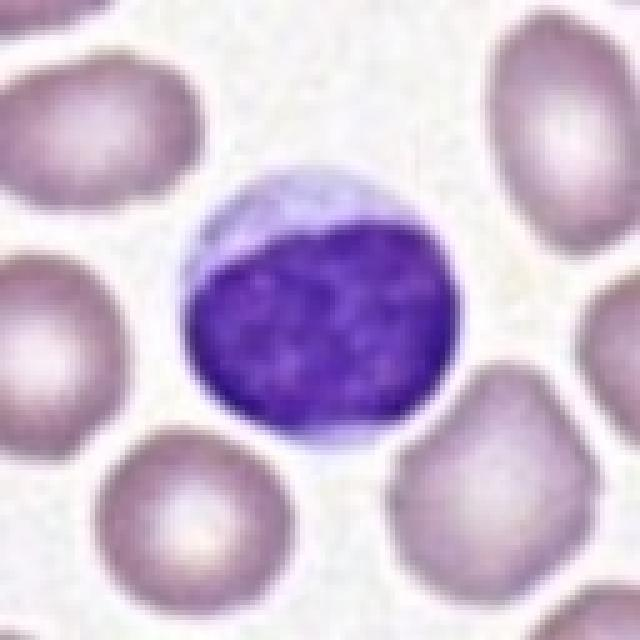lympho: (173, 161, 466, 448)
